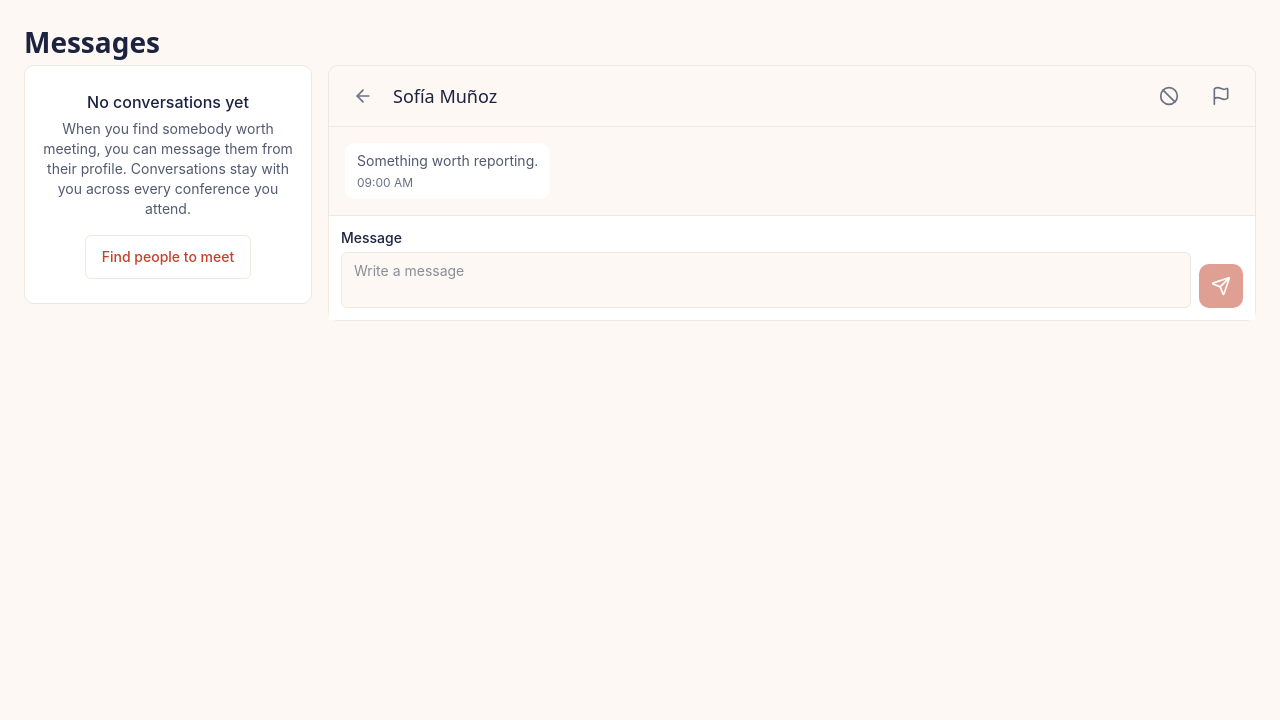
Scenario: the block confirmation › is reached from the thread header, by a control that names the person
Click the button named "block sofía muñoz". click: (1169, 96)
box: [1147,74,1191,118]
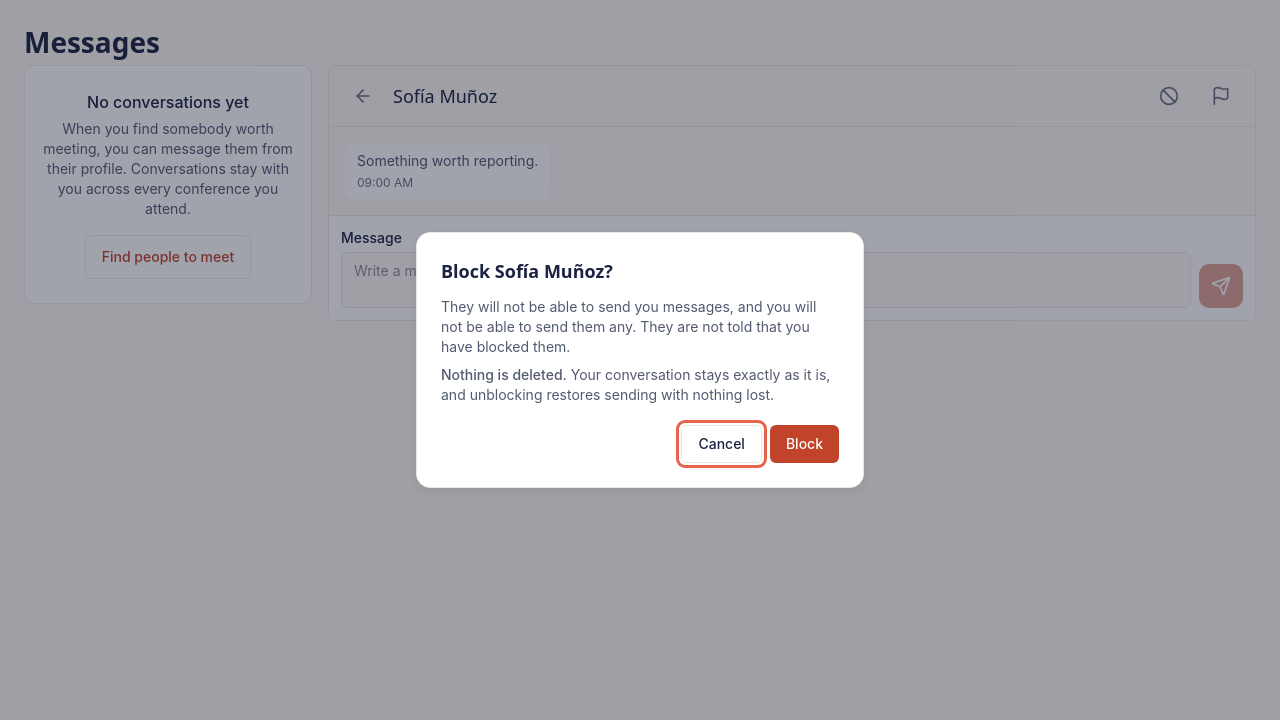
Now the dialog shows "Block Sofía Muñoz?", box [441,259,613,283]
